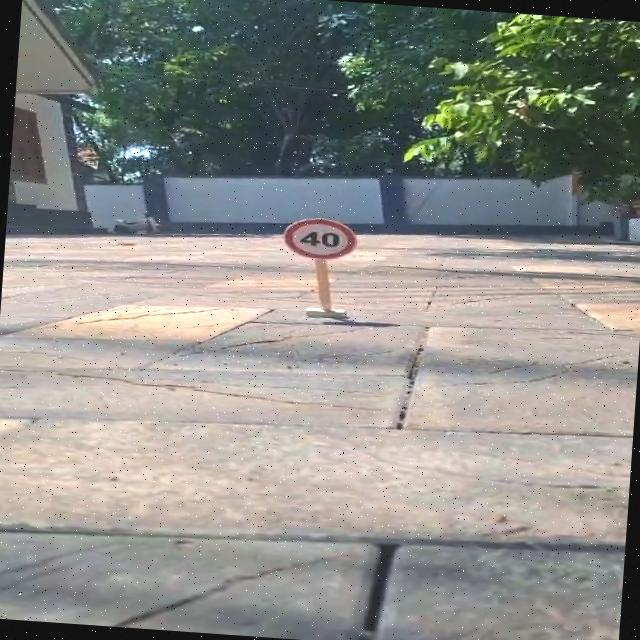Speed40: (280, 214, 360, 264)
